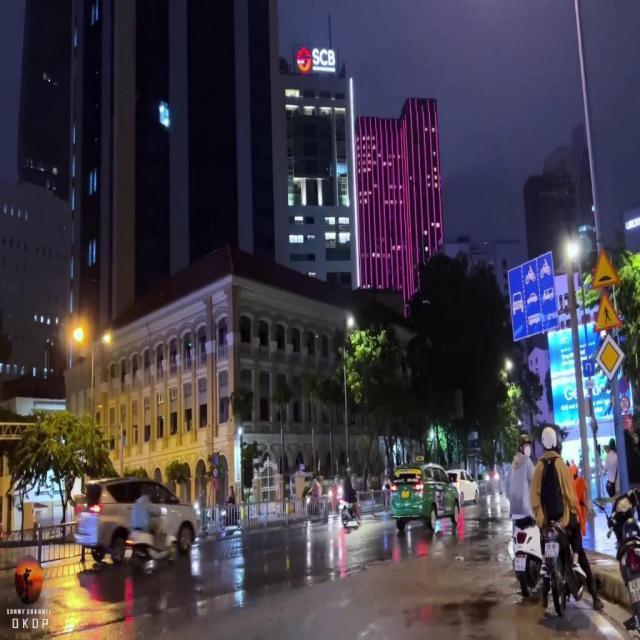221-duong-go-ghe: (590, 248, 622, 288)
225-chu-y-tre-em: (592, 294, 624, 332)
